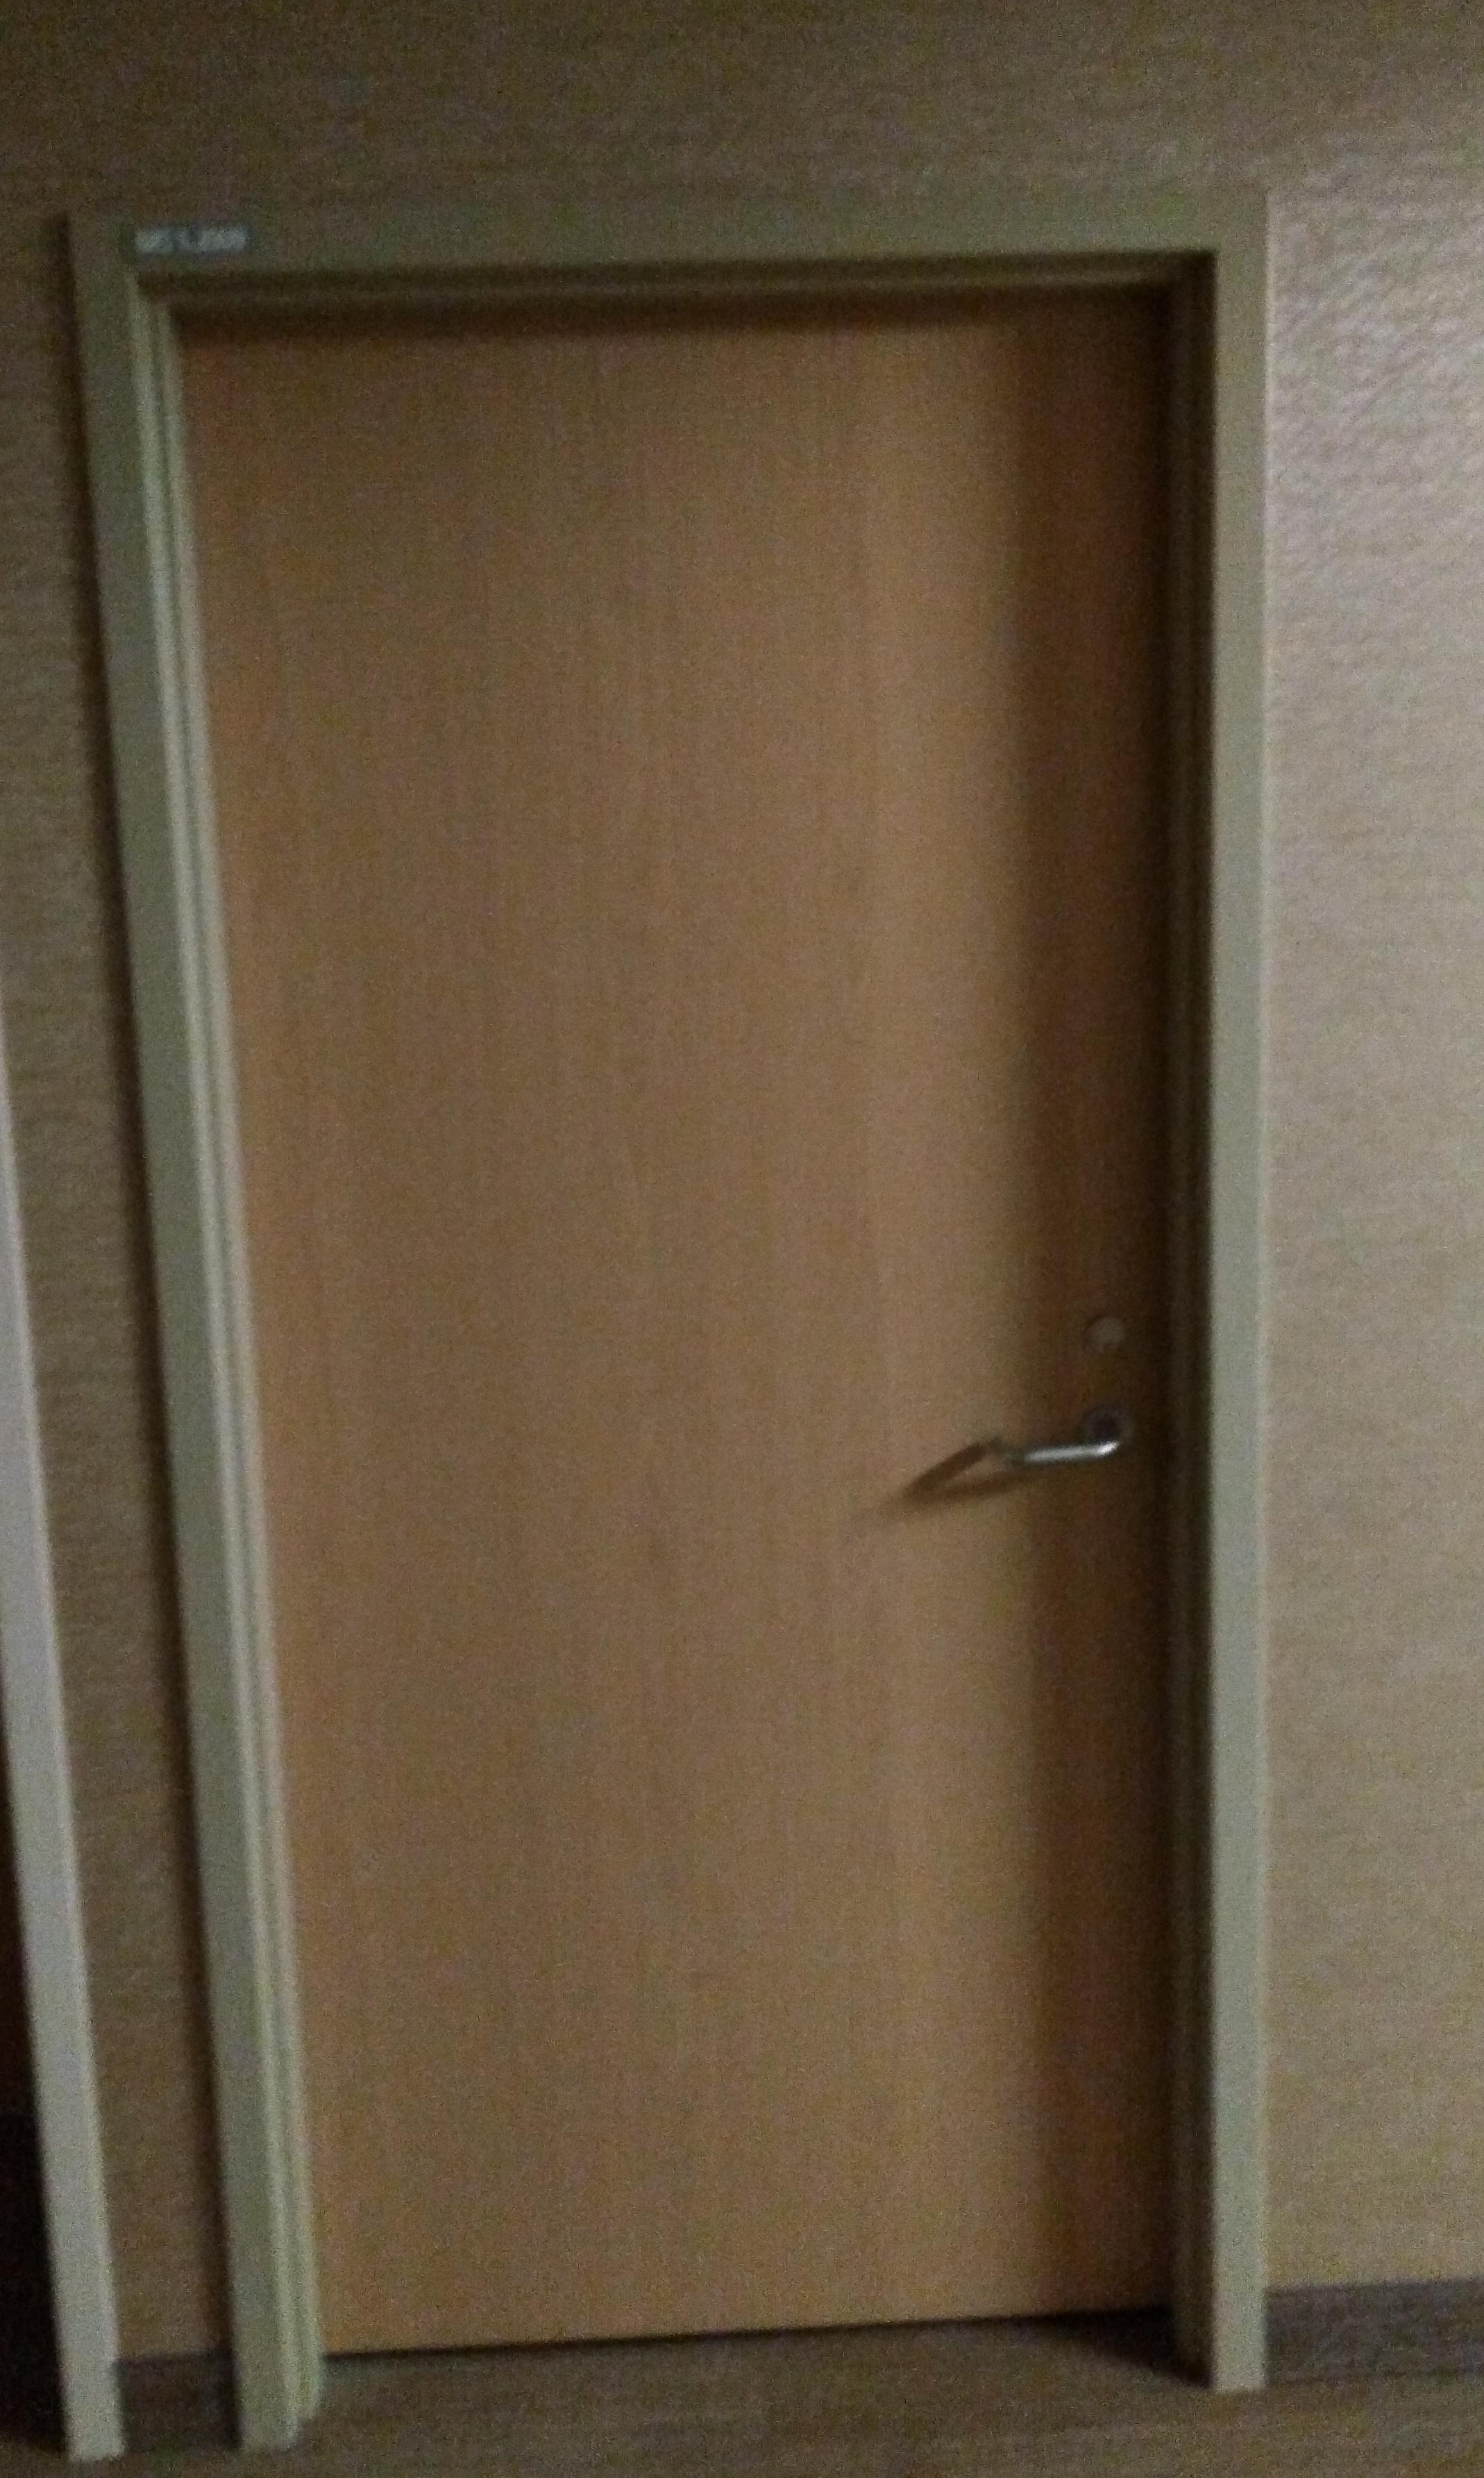door: (120, 249, 1242, 2367)
